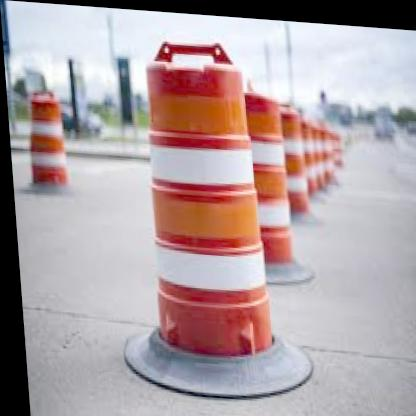obstacle: (130, 41, 272, 358)
